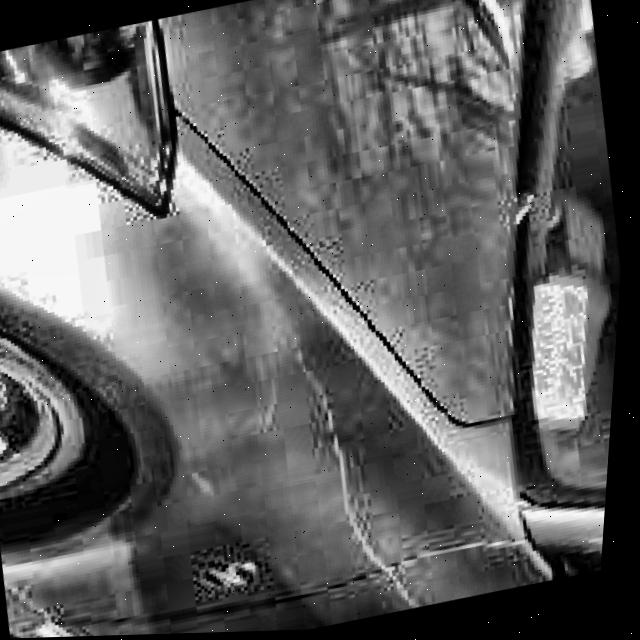door_scratch: (271, 306, 380, 535), (366, 532, 439, 615)
